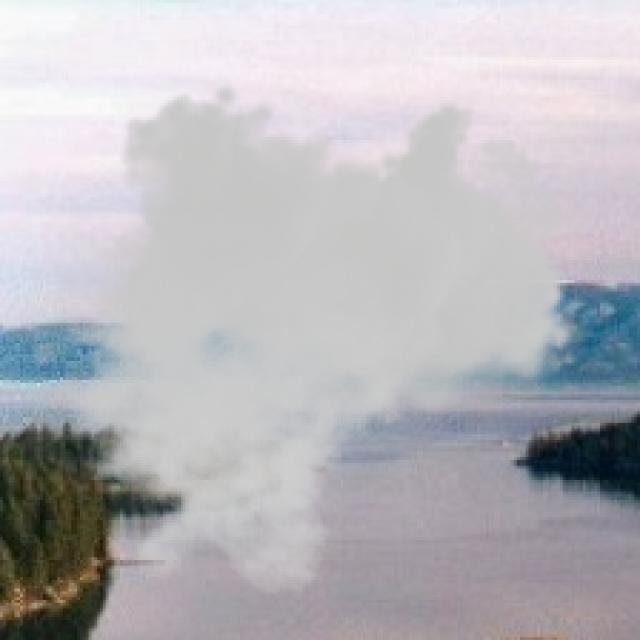smoke: (26, 80, 577, 597)
